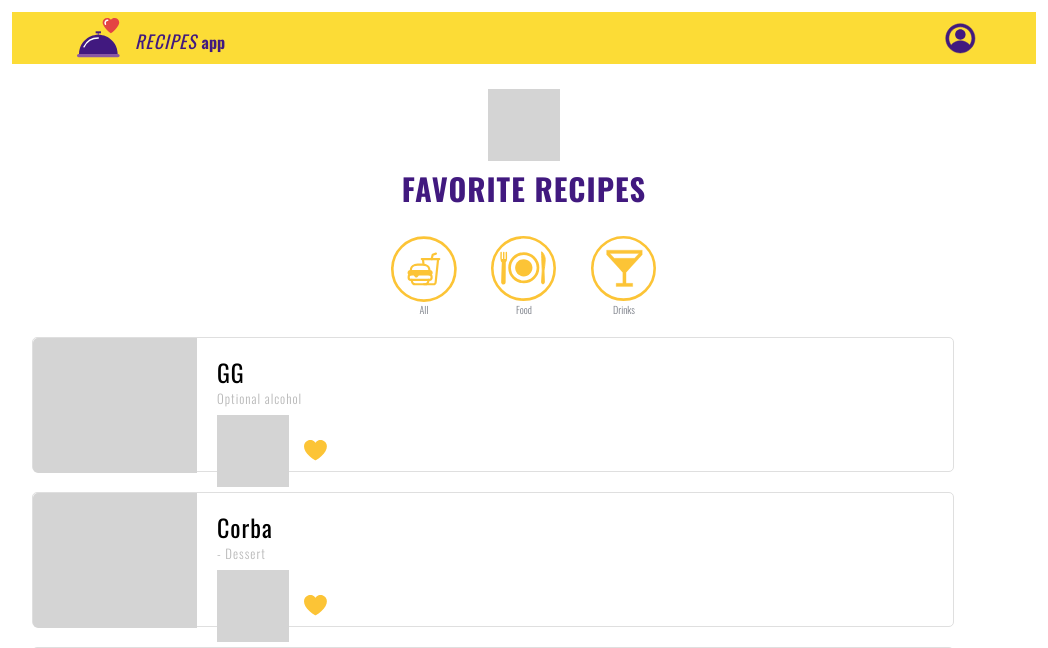
Test case: Testes referentes ao componente RecipesDetails › Verifica se ao clicar nos botões de filto as receitas são filtradas
What coordinates should you click on to do the following:
click the button with test id "filter-by-meal-btn"
I would click on:
 (524, 276)
Its box is left=474, top=236, right=574, bottom=316.
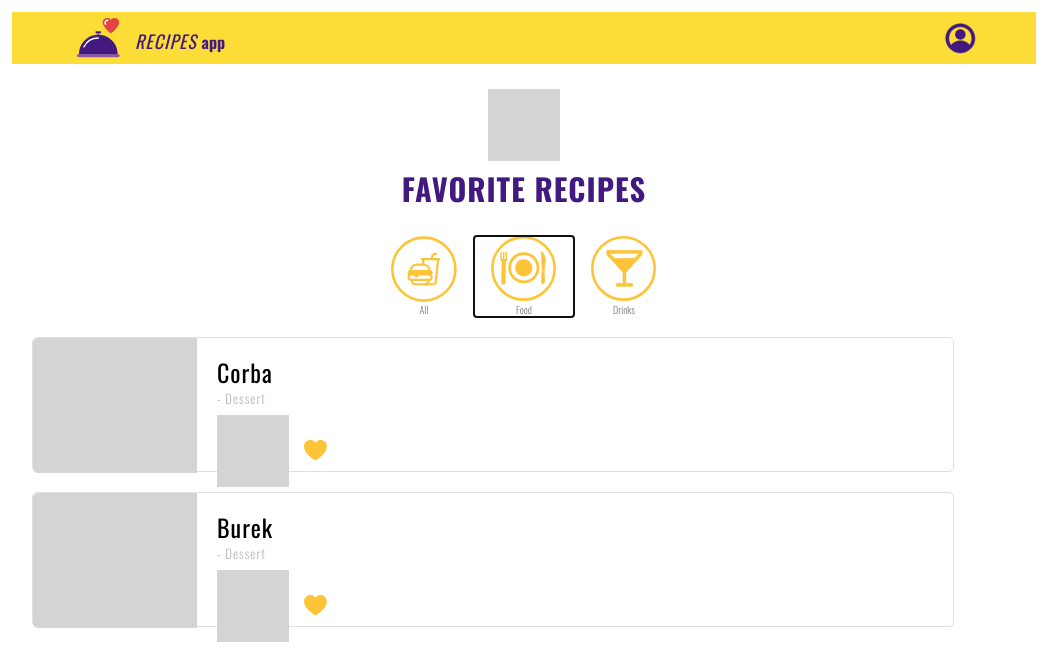
Now the button "GG" is gone
What coordinates should you click on to do the following:
click the button with test id "filter-by-drink-btn"
I would click on:
 (624, 276)
Its box is left=574, top=236, right=674, bottom=316.
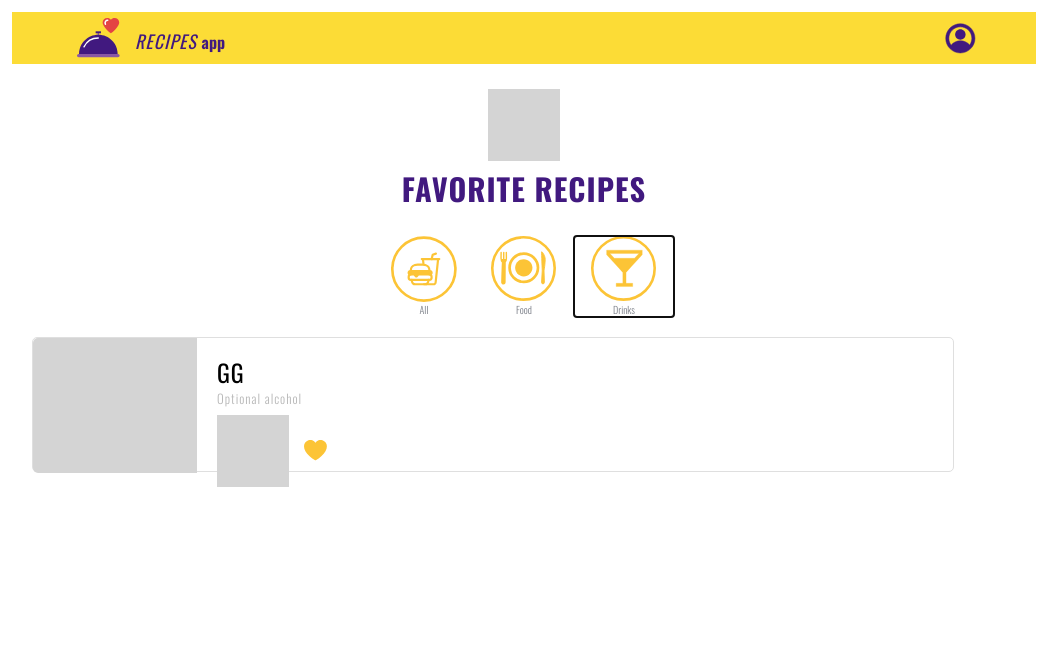
Now the heading "GG" is shown, box left=217, top=358, right=245, bottom=386
Now the button "Corba" is gone
What coordinates should you click on to do the following:
click the button with test id "filter-by-all-btn"
I would click on:
 (424, 276)
Its box is left=374, top=236, right=474, bottom=316.
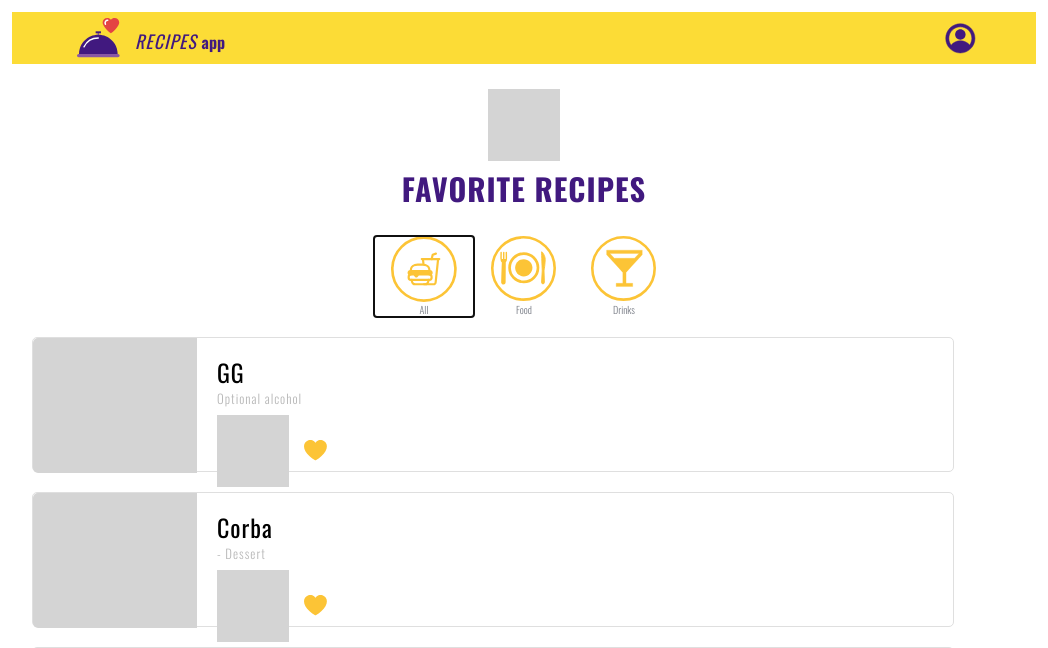
Now the heading "GG" is shown, box left=217, top=358, right=245, bottom=386
Now the heading "Corba" is shown, box left=217, top=512, right=273, bottom=541
